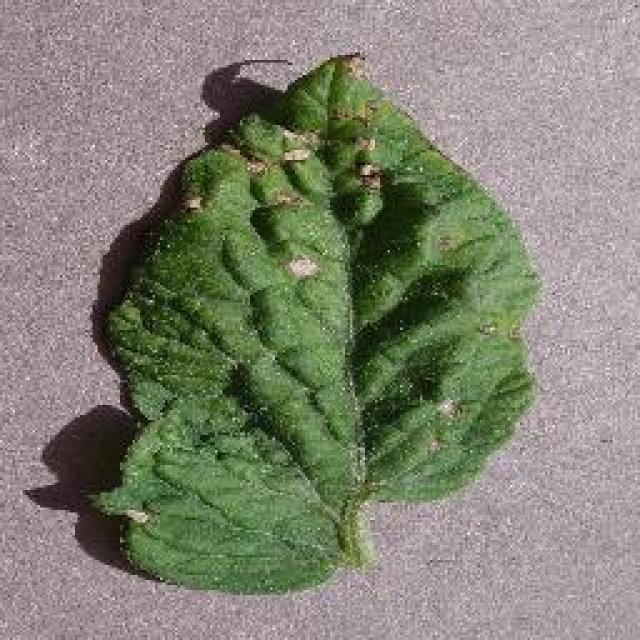Tomato Septoria spot leaf: (85, 46, 533, 602)
